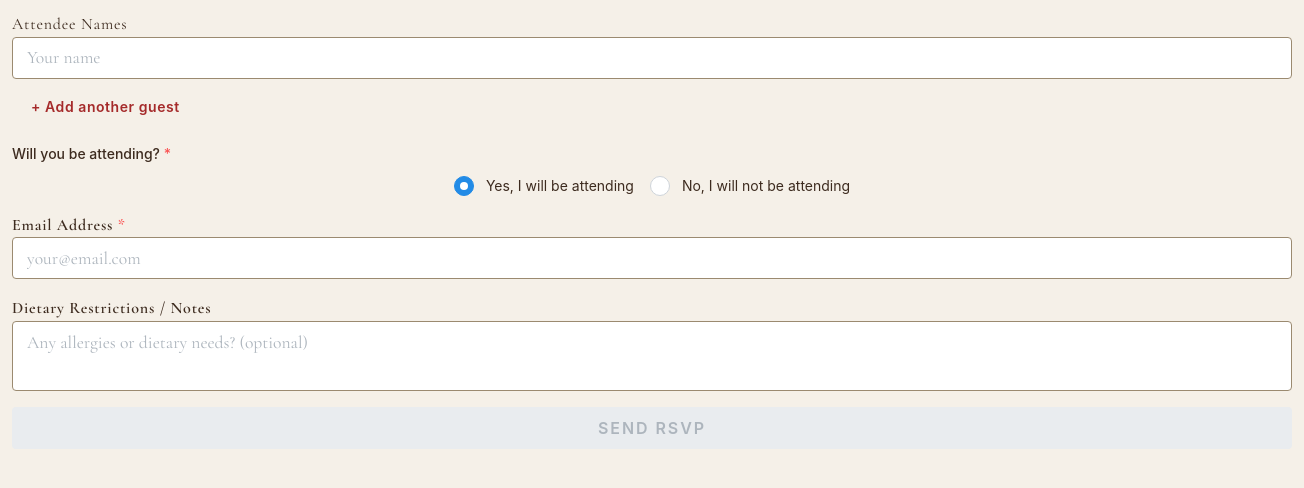
Test: RsvpForm › validation › shows an error for an invalid email format
Step 1. Type "Jon Bernard" into the field with placeholder "Your name" → [652, 58], box top-left (12, 37), bottom-right (1292, 79)
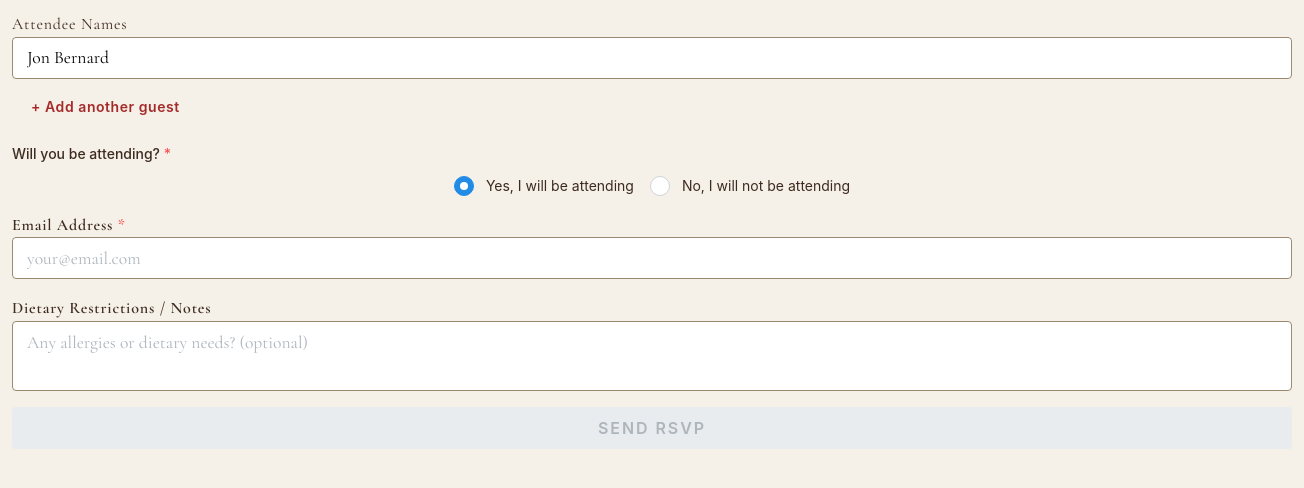
Step 2. Type "not-an-email" into the field with placeholder "your@email.com" → [652, 258], box top-left (12, 237), bottom-right (1292, 279)
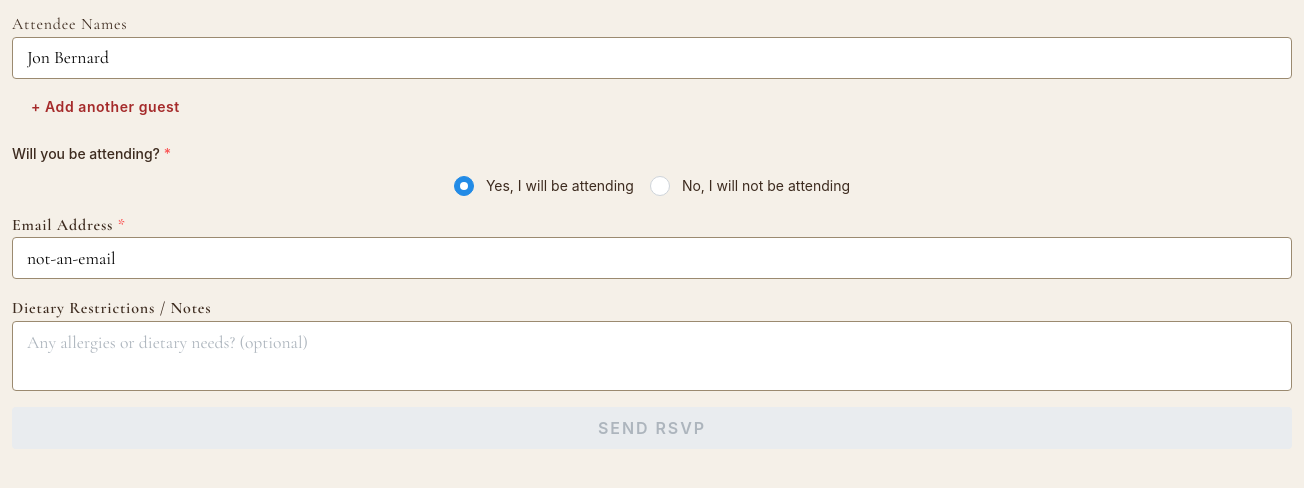
Step 3. Submit the form named "send rsvp"
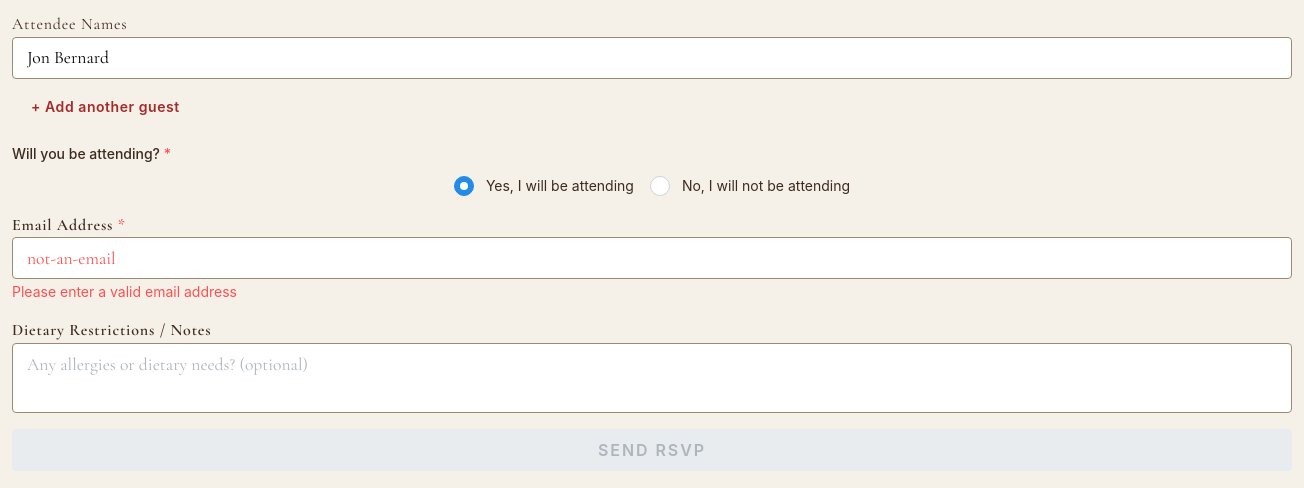
Check: the text "Please enter a valid email address" is shown, box top-left (12, 283), bottom-right (237, 300)
